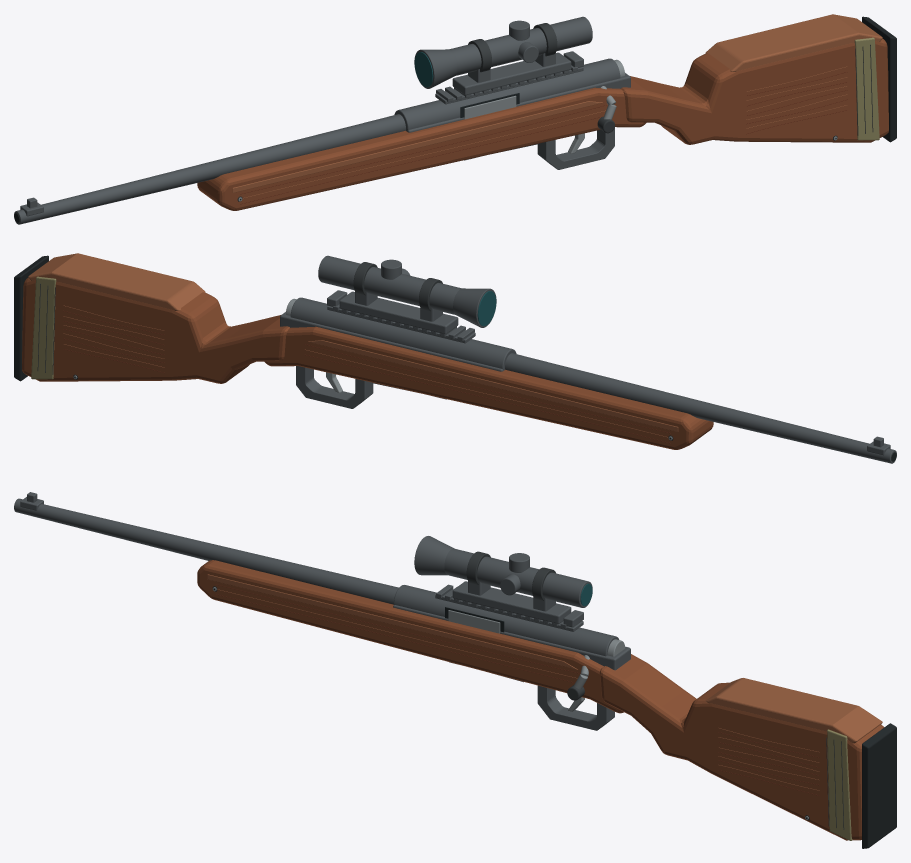
The picture shows the model from 3 angles, top to bottom: view 1: azimuth 30°, elevation 25°; view 2: azimuth 150°, elevation 25°; view 3: azimuth 330°, elevation 25°; orthographic projection.
Parts seen in each view (by area): view 1: part_stock_surfaces, part_body_surfaces, part_optic_surfaces, part_barrel_surfaces, part_receiver_surfaces, part_guard_surfaces, part_sights_surfaces; view 2: part_stock_surfaces, part_body_surfaces, part_optic_surfaces, part_barrel_surfaces, part_receiver_surfaces, part_guard_surfaces, part_sights_surfaces; view 3: part_stock_surfaces, part_body_surfaces, part_optic_surfaces, part_barrel_surfaces, part_receiver_surfaces, part_guard_surfaces, part_sights_surfaces.
Boxes of the visible parts, bbox=[...] form: part_stock_surfaces: bbox=[621, 14, 896, 144]; part_body_surfaces: bbox=[197, 87, 646, 210]; part_optic_surfaces: bbox=[414, 16, 592, 95]; part_barrel_surfaces: bbox=[14, 114, 405, 224]; part_receiver_surfaces: bbox=[394, 58, 630, 133]; part_guard_surfaces: bbox=[537, 127, 614, 169]; part_sights_surfaces: bbox=[20, 51, 583, 216]; part_stock_surfaces: bbox=[14, 253, 289, 383]; part_body_surfaces: bbox=[264, 326, 713, 449]; part_optic_surfaces: bbox=[318, 255, 496, 334]; part_barrel_surfaces: bbox=[505, 353, 896, 463]; part_receiver_surfaces: bbox=[280, 297, 516, 371]; part_guard_surfaces: bbox=[296, 366, 373, 408]; part_sights_surfaces: bbox=[327, 290, 890, 455]; part_stock_surfaces: bbox=[599, 654, 896, 848]; part_body_surfaces: bbox=[197, 560, 623, 713]; part_optic_surfaces: bbox=[414, 536, 592, 623]; part_barrel_surfaces: bbox=[14, 498, 398, 604]; part_receiver_surfaces: bbox=[393, 585, 630, 700]; part_guard_surfaces: bbox=[537, 685, 614, 730]; part_sights_surfaces: bbox=[20, 492, 583, 631].
Bounding box in the file's own units: 350 × 75.1 × 23.09.
